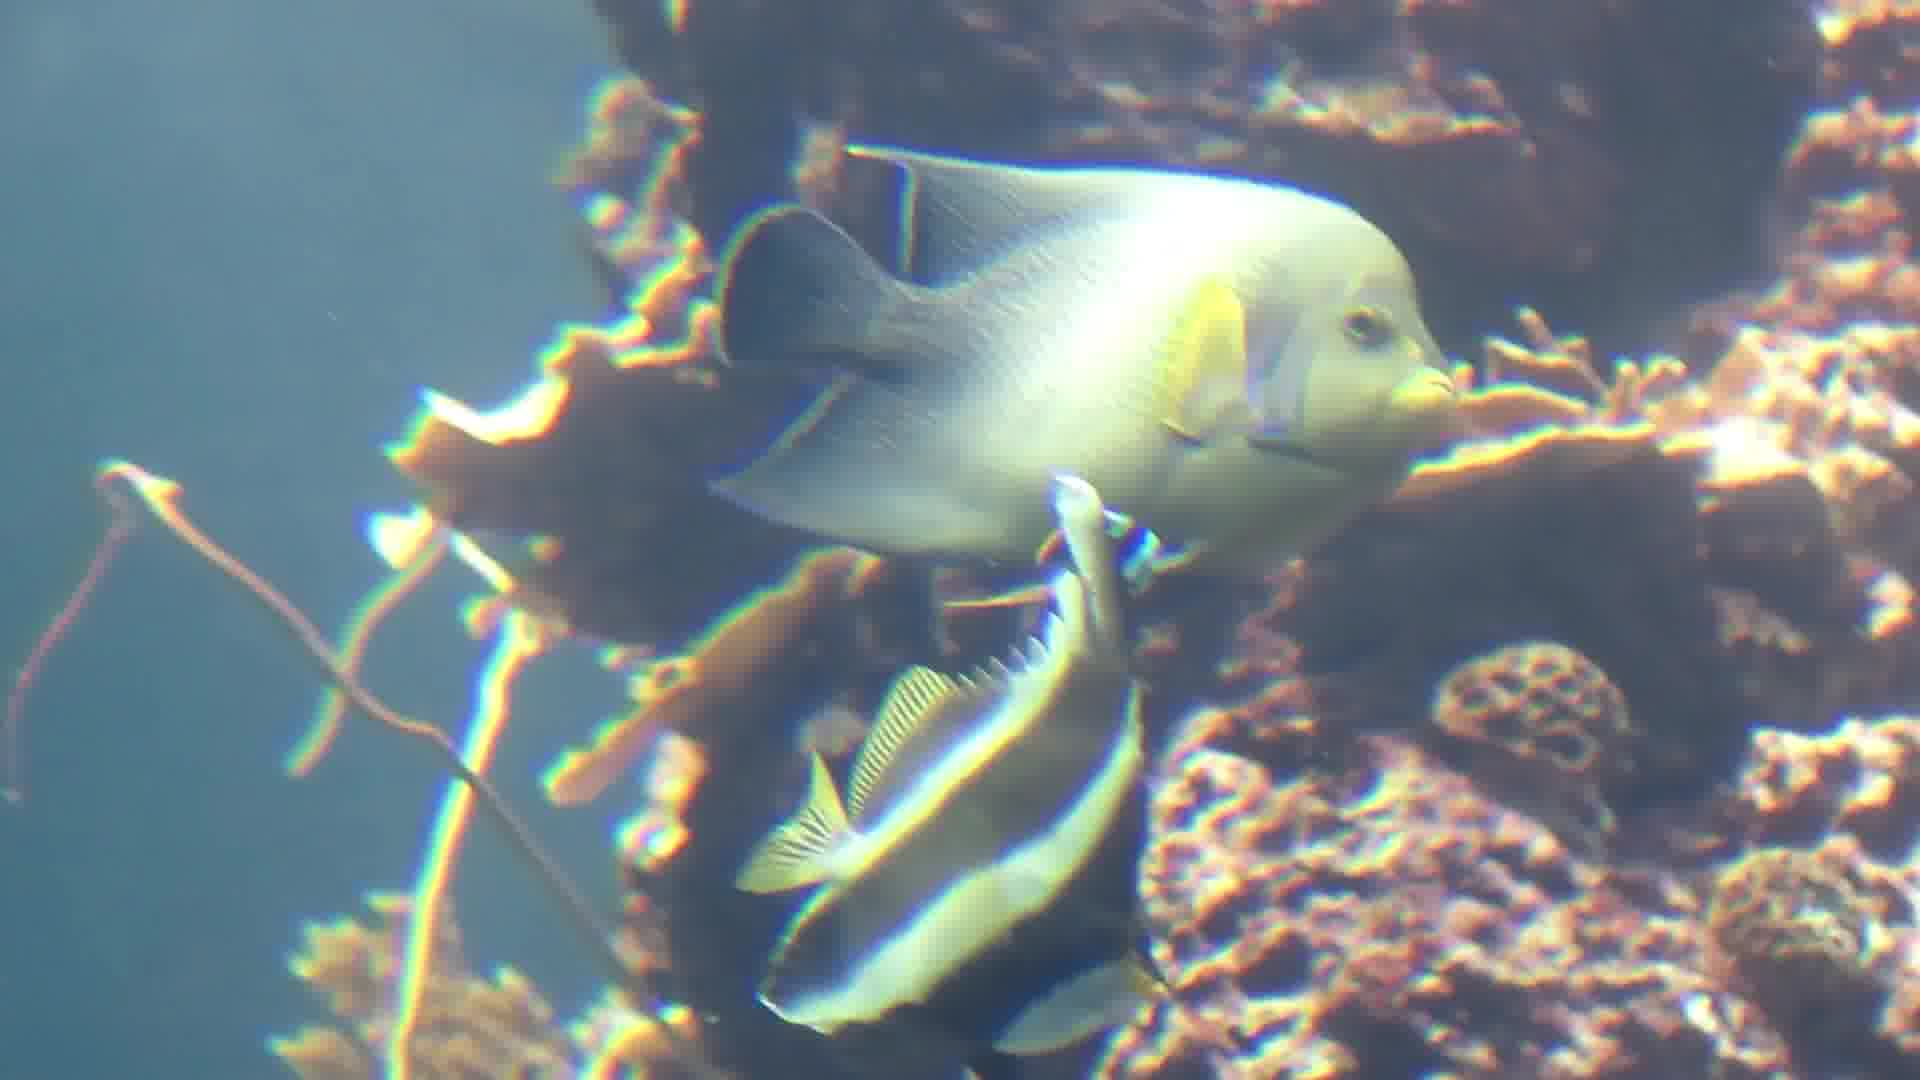Heniochus chrysostomus: (740, 464, 1163, 1080)
